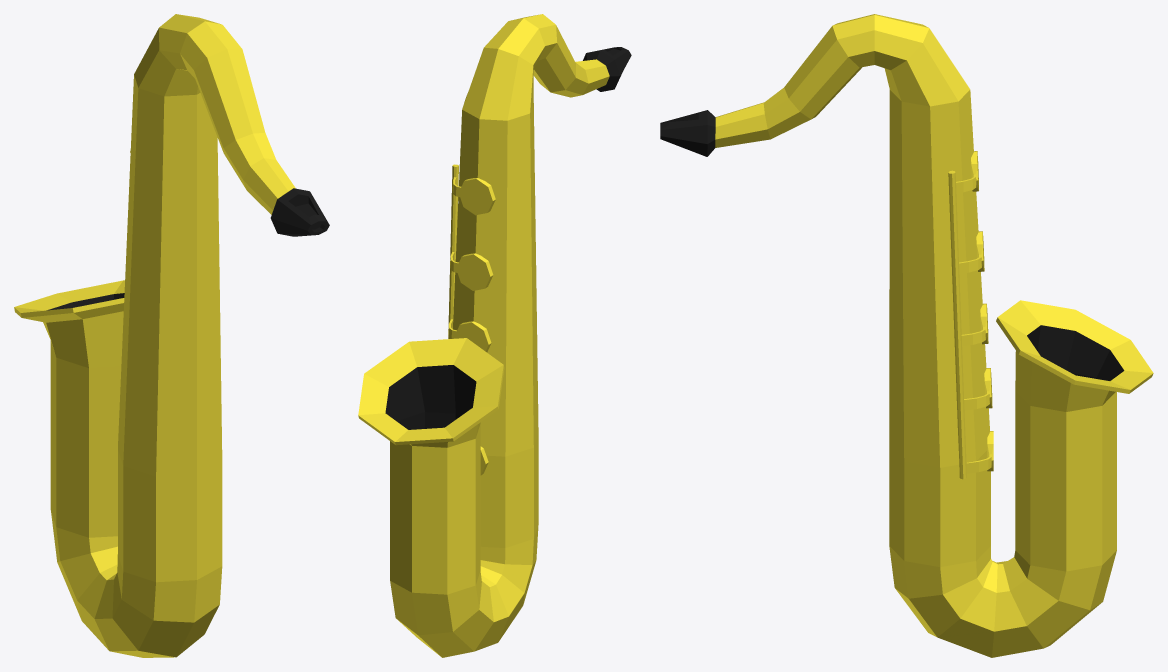
Rendered from band-sax.glb.
3 views of the same model, side by side, from view 1: azimuth 30°, elevation 25°; view 2: azimuth 150°, elevation 25°; view 3: azimuth 270°, elevation 25° (orthographic). The views are drawn at different scales.
Visible parts, largest first — view 1: Saxophone_Circle.003; view 2: Saxophone_Circle.003; view 3: Saxophone_Circle.003.
Part boxes in pixels (x1,y1,x2,y2): Saxophone_Circle.003: (14,14,329,657); Saxophone_Circle.003: (358,14,631,657); Saxophone_Circle.003: (660,14,1153,657).
Size of the model in its own units: 0.1898 by 0.8 by 0.5577.
